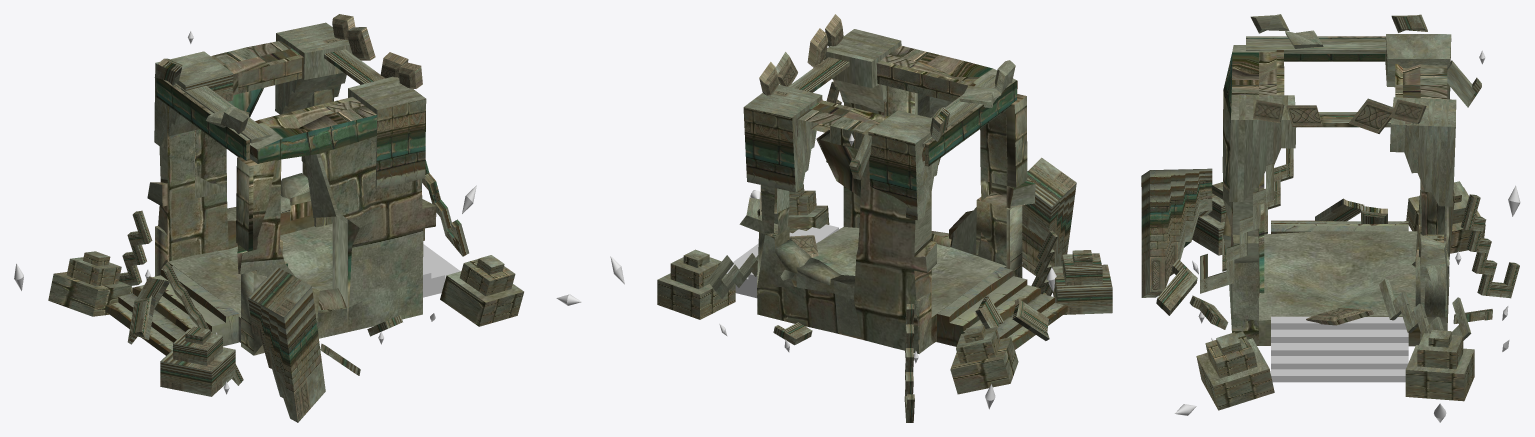
The model's file is Vestigesdetruittexv1.fbx.
3 views of the same model, side by side, from view 1: azimuth 30°, elevation 25°; view 2: azimuth 150°, elevation 25°; view 3: azimuth 270°, elevation 25° (orthographic). The views are drawn at different scales.
Parts seen in each view (by area): view 1: StructureBase, Box018, Box028, Escalier, CoinMur, Box020, Stèle, Stèle4*, Box008, Box017, Décorations, Box043 (+12 smaller); view 2: StructureBase, CoinMur, Box020, Escalier, Box018, Box028, Box017, Box047, Box008, Stèle4*, Box030, Décorations (+17 smaller); view 3: StructureBase, Box041, Box018, CoinMur, Box028, Stèle, Box047, Box020, Décorations, Box029, Box030, Box027 (+24 smaller).
Boxes of the visible parts, <box> form: StructureBase: <box>147,41,436,355</box>; Box018: <box>248,267,325,422</box>; Box028: <box>348,76,426,189</box>; Escalier: <box>105,266,239,355</box>; CoinMur: <box>275,22,352,114</box>; Box020: <box>154,51,233,147</box>; Stèle: <box>440,271,523,326</box>; Stèle4*: <box>160,347,235,396</box>; Box008: <box>156,78,249,160</box>; Box017: <box>48,272,131,316</box>; Décorations: <box>119,210,152,293</box>; Box043: <box>459,259,515,296</box>; StructureBase: <box>739,45,1035,353</box>; CoinMur: <box>743,84,822,192</box>; Box020: <box>868,110,938,220</box>; Escalier: <box>936,267,1067,349</box>; Box018: <box>1022,157,1076,278</box>; Box028: <box>823,29,901,112</box>; Box017: <box>950,337,1018,394</box>; Box047: <box>657,273,735,319</box>; Box008: <box>925,79,1016,166</box>; Stèle4*: <box>1052,264,1112,314</box>; Box030: <box>707,237,792,298</box>; Décorations: <box>904,304,914,422</box>; StructureBase: <box>1222,45,1454,346</box>; Box041: <box>1271,316,1408,382</box>; Box018: <box>1141,168,1212,297</box>; CoinMur: <box>1390,97,1456,206</box>; Box028: <box>1229,95,1296,201</box>; Stèle: <box>1196,338,1274,410</box>; Box047: <box>1405,345,1474,401</box>; Box020: <box>1385,34,1451,99</box>; Décorations: <box>1461,194,1519,298</box>; Box029: <box>1200,163,1273,293</box>; Box030: <box>1379,279,1471,340</box>; Box027: <box>1246,39,1386,53</box>.
Size of the model in its own units: 664 by 420 by 484.
